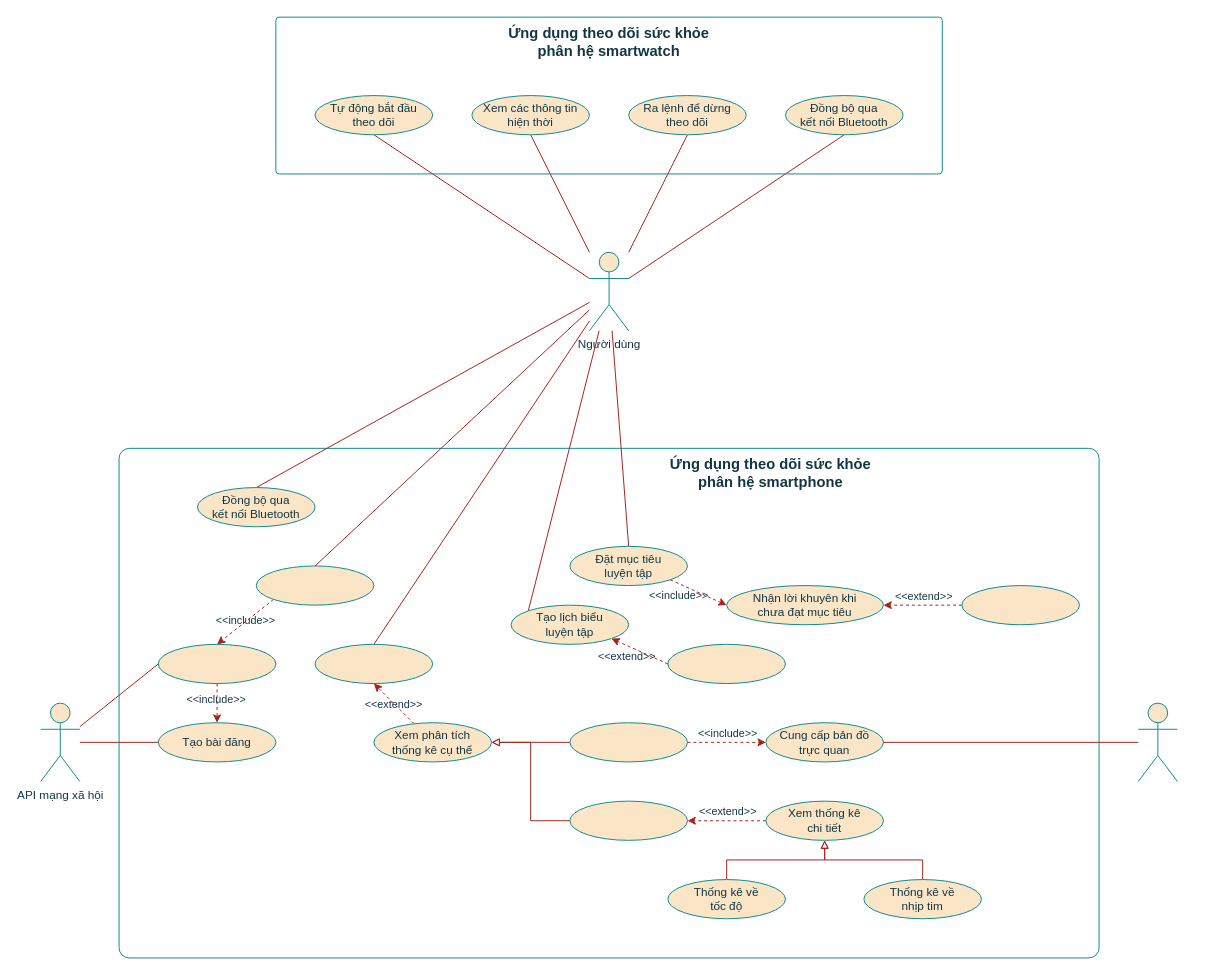
The diagram is 1220 pixels wide and 975 high, and some of its shapes have lost their labels. The shapes that lost their labels are listed below. From the top down, each one's centre as x and y in pixels, then its label:
(314,585): Chia sẻ kết quả hoạt động
(1020,605): Điều chỉnh lại mục tiêu
(216,663): Đăng nhập vào mạng xã hội
(373,663): Xem thông tin tổng hợp
(726,663): Nhận nhắc nhở sắp đến lịch
(628,742): Xem lộ trình di chuyển
(1157,742): Dịch vụ bản đồ trung gian
(628,820): Xem thống kê tổng quát
